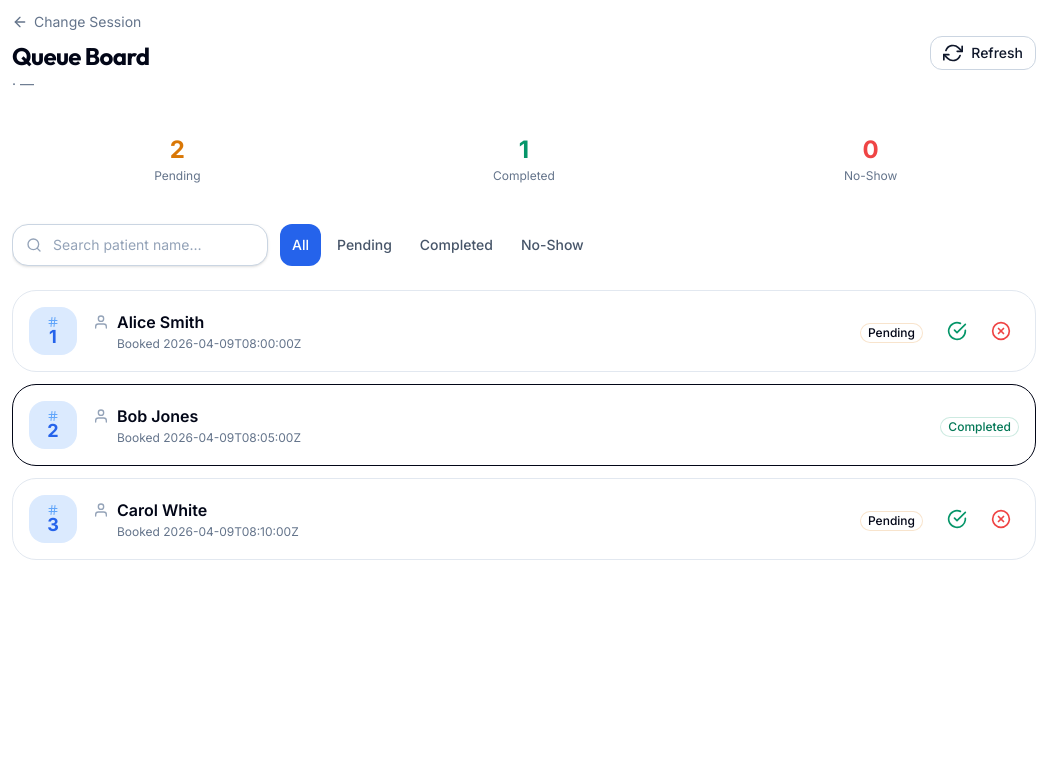
Test case: QueueBoardPage › Queue list (with clinicId param) › filters to only Pending when Pending filter clicked
Check: the text "Bob Jones" is shown, box [117,404,198,428]
Click the button "Pending": point(364, 245) [325,224,404,266]
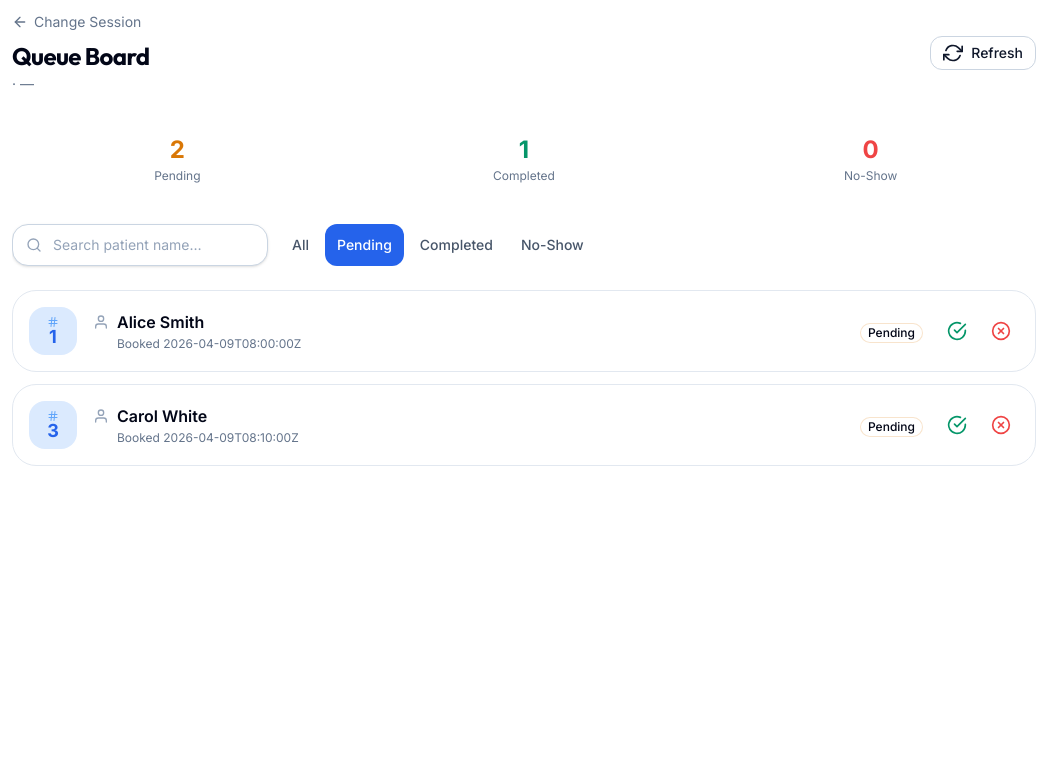
Check: the text "Alice Smith" is shown, box [117,310,204,334]
Check: the text "Bob Jones" is gone
